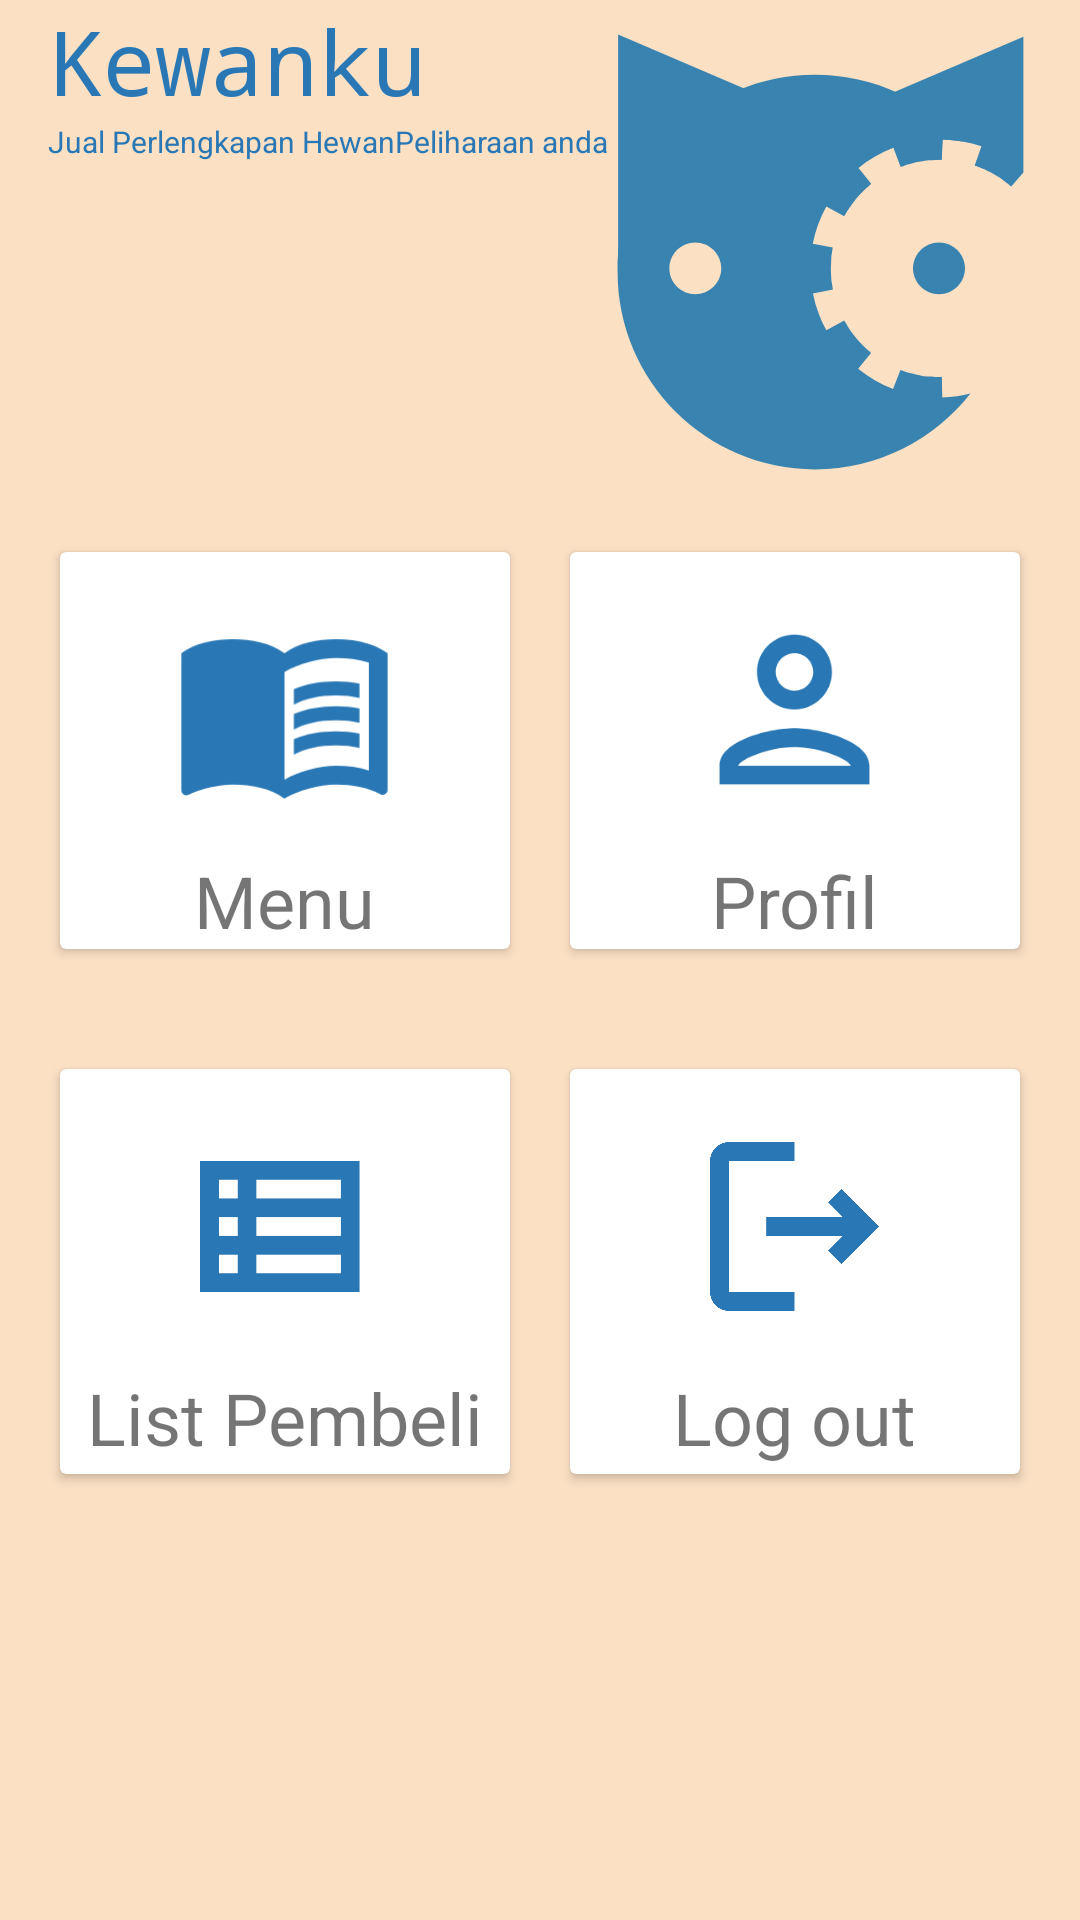

Named icons in this screenshot (1080*1920) and their bounding boxes, box(x1, y1, x2, y2):
book: box(181, 639, 388, 799)
person: box(719, 634, 870, 785)
view list: box(200, 1161, 360, 1292)
